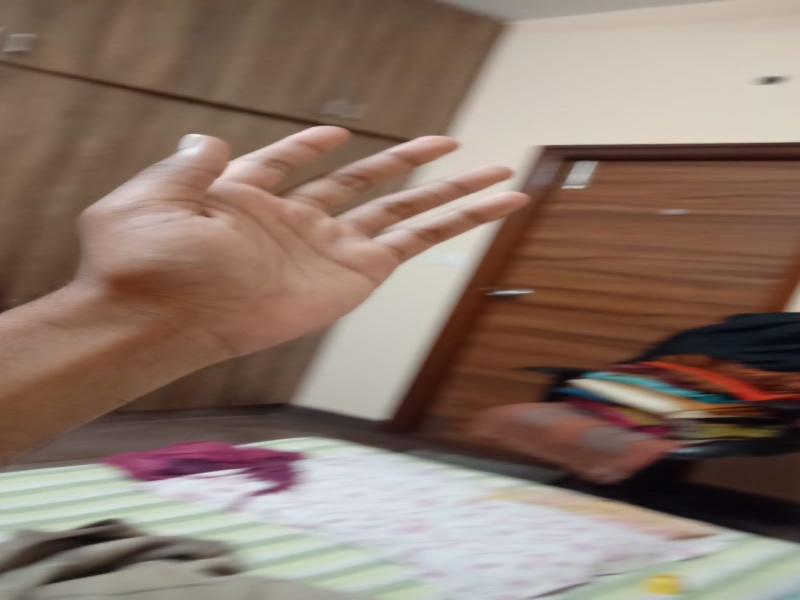Hand: (52, 116, 535, 372)
